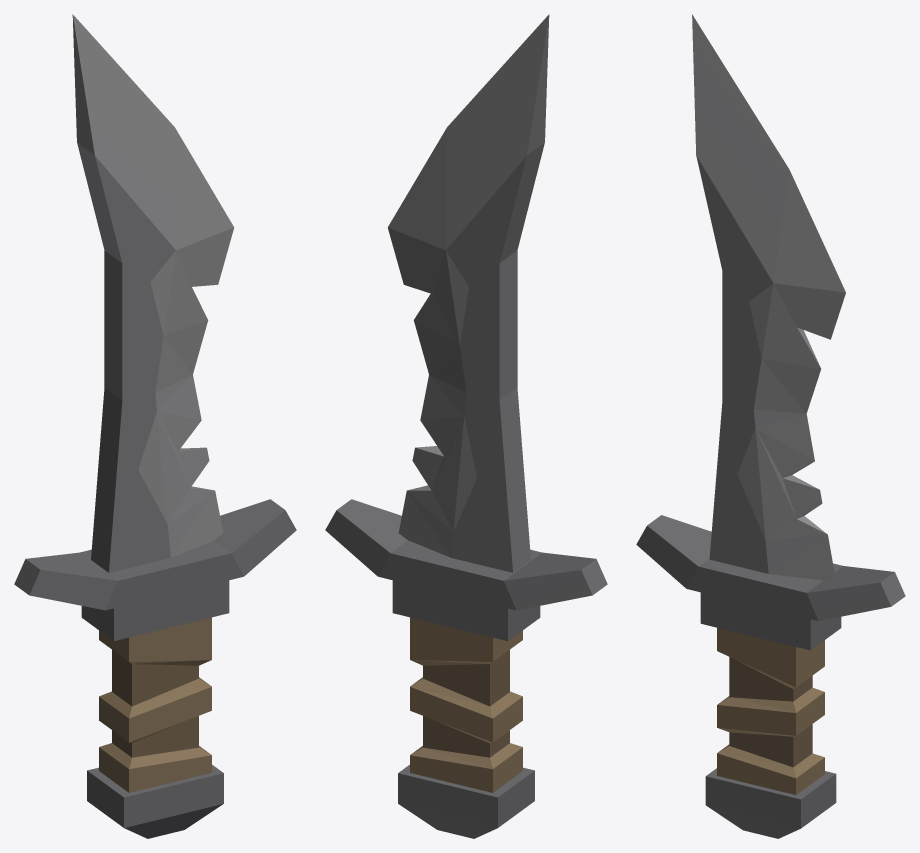
The model's file is SM_Wep_Dagger_01.gltf.
The picture shows the model from 3 angles, left to right: view 1: azimuth 30°, elevation 25°; view 2: azimuth 150°, elevation 25°; view 3: azimuth 330°, elevation 25°; orthographic projection. The views are drawn at different scales.
Visible parts, largest first — view 1: SM_Wep_Dagger_01; view 2: SM_Wep_Dagger_01; view 3: SM_Wep_Dagger_01.
Boxes of the visible parts, bbox=[...] form: SM_Wep_Dagger_01: bbox=[14, 14, 296, 838]; SM_Wep_Dagger_01: bbox=[325, 14, 607, 838]; SM_Wep_Dagger_01: bbox=[636, 14, 905, 838].
Bounding box in the file's own units: 0.1998 × 0.5943 × 0.05.
1 material, 1 textured.
